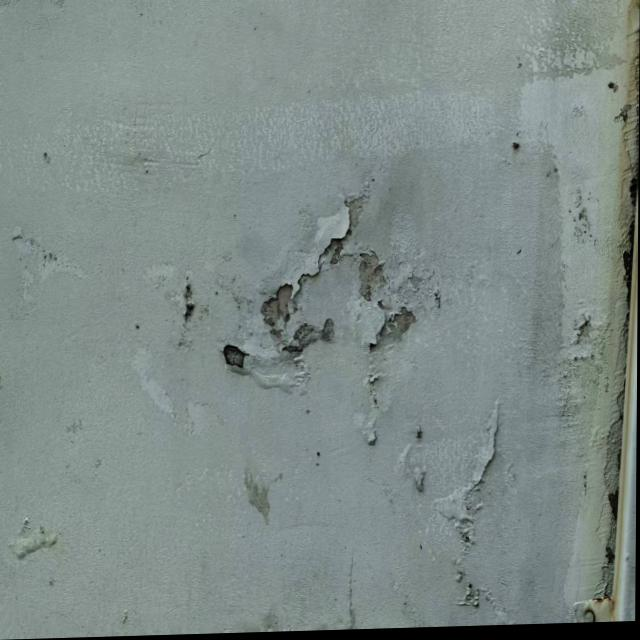hollowing: (8, 518, 59, 570)
spalling: (223, 181, 509, 551), (566, 303, 610, 371), (452, 551, 496, 612), (176, 270, 201, 354)
